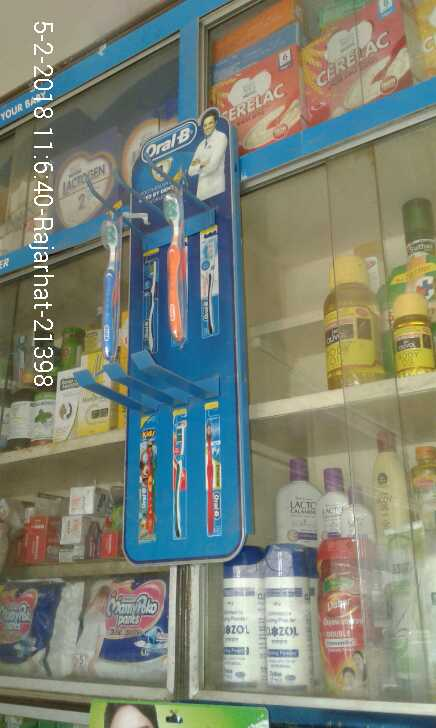oralb: (160, 186, 191, 346), (97, 212, 123, 359)
